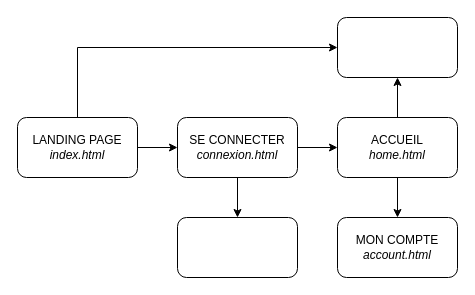
The diagram is 475 pixels wide and 295 high, and some of its shapes have lost their labels. Here are the shapes that lost their labels. From the top down, the centre of each, then its label:
At point 397,47: "CATALOGUE catalog.html".
At point 237,247: "CREER UN COMPTE inscription-page.html".
